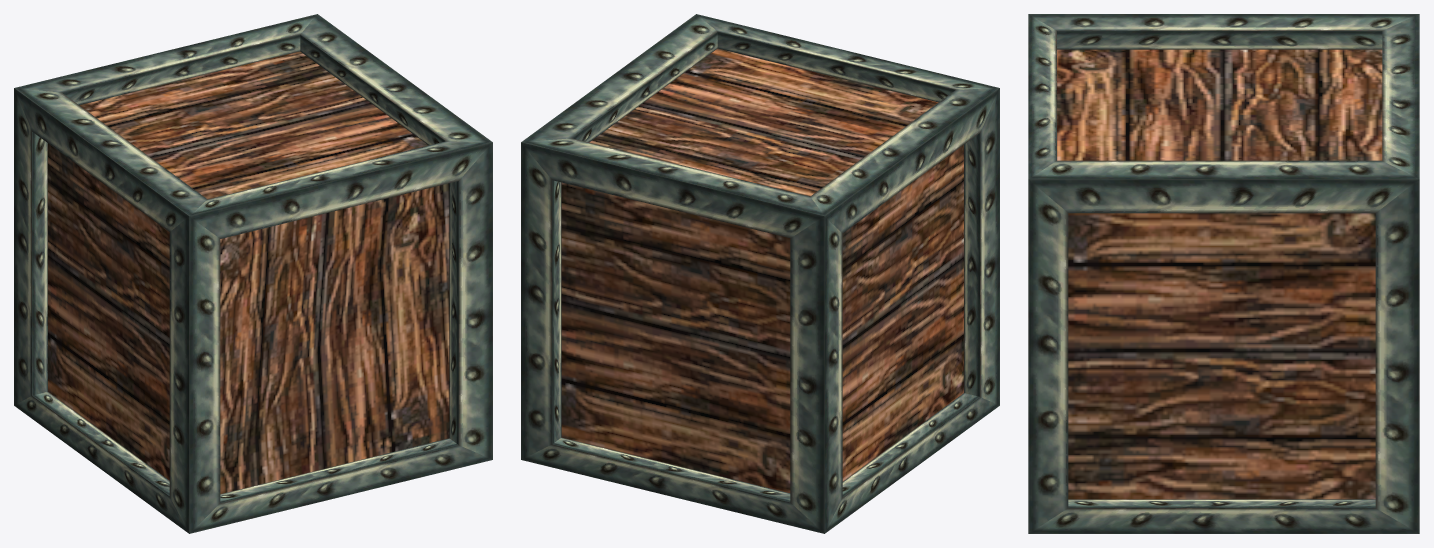
Rendered from LVL_RIV_INST_CRATEB.fbx.
3 renders of one model, left to right at view 1: azimuth 30°, elevation 25°; view 2: azimuth 150°, elevation 25°; view 3: azimuth 270°, elevation 25°, orthographic. The views are drawn at different scales.
Visible parts, largest first — view 1: LVL_RIV_INST_CRATEB; view 2: LVL_RIV_INST_CRATEB; view 3: LVL_RIV_INST_CRATEB.
Part boxes in pixels (left/top/right/bottom): LVL_RIV_INST_CRATEB: left=14, top=14, right=492, bottom=533; LVL_RIV_INST_CRATEB: left=521, top=14, right=999, bottom=533; LVL_RIV_INST_CRATEB: left=1028, top=14, right=1419, bottom=533.
Size of the model in its own units: 12711 by 12711 by 12711.
2 materials, 2 textured.
